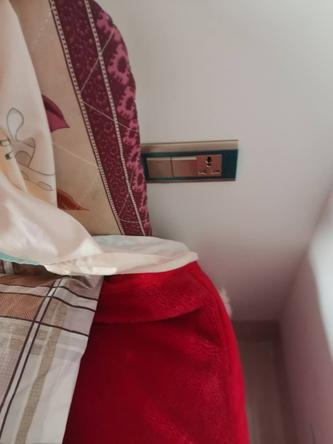switch: (143, 154, 175, 182), (169, 152, 198, 180)
